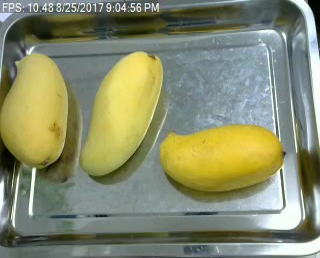Mango: (79, 48, 161, 174), (155, 120, 286, 197), (0, 52, 67, 171)
